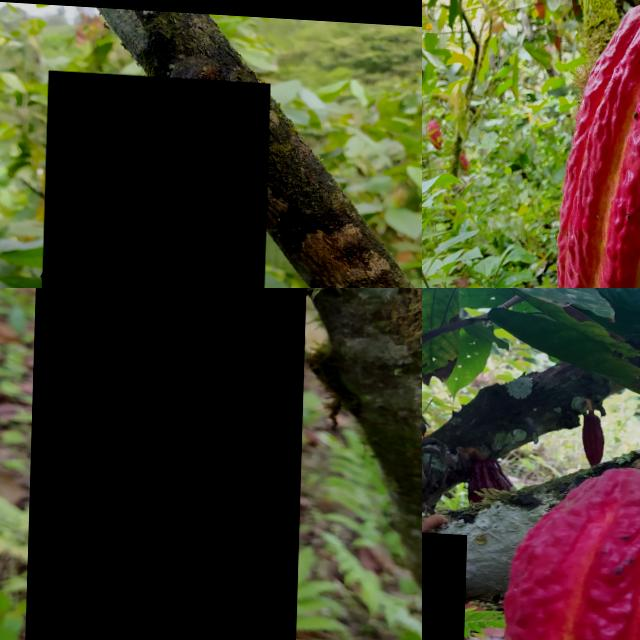Fitoftora: (28, 288, 309, 640), (39, 68, 270, 288), (557, 0, 640, 288)
Sana: (499, 453, 640, 640), (583, 406, 606, 462)
